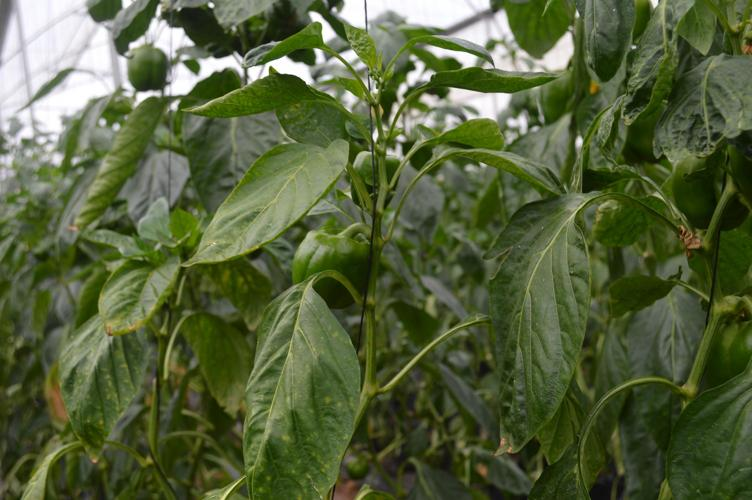BellPepper: (287, 219, 381, 314), (336, 140, 408, 227), (114, 43, 180, 110)
